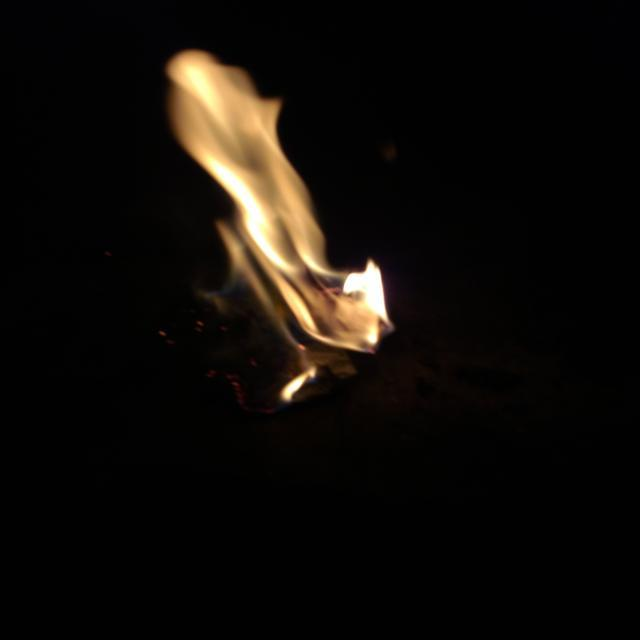Smoke: (144, 47, 406, 399)
